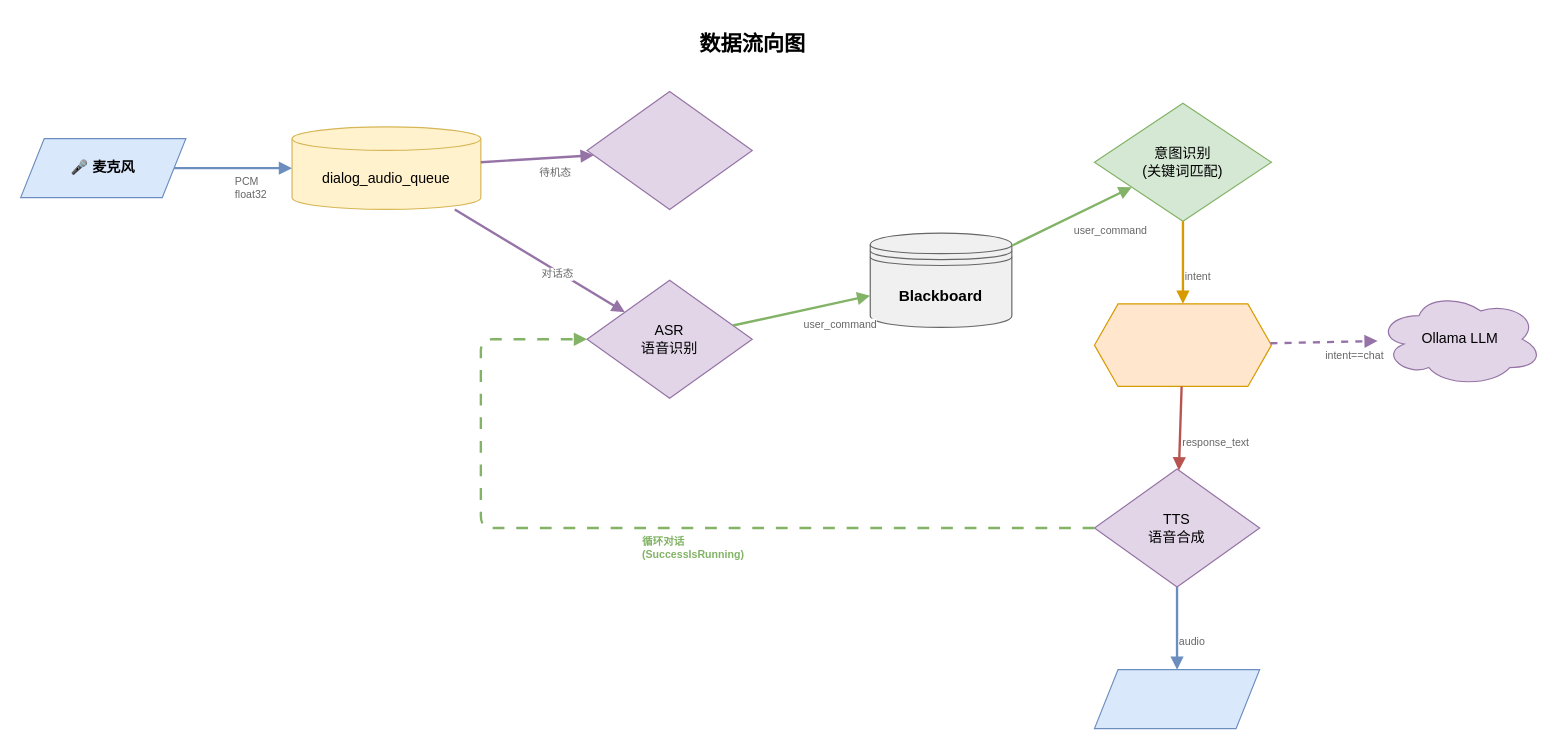
Some shapes in this 1563 by 749 pixel diagram are drawn without their labels. Each missing label, with the centre of its shape:
"Action 分发 (Selector)" belongs at point (1182, 344).
"KWS 唤醒词检测" belongs at point (669, 149).
"🔊 扬声器" belongs at point (1176, 698).
